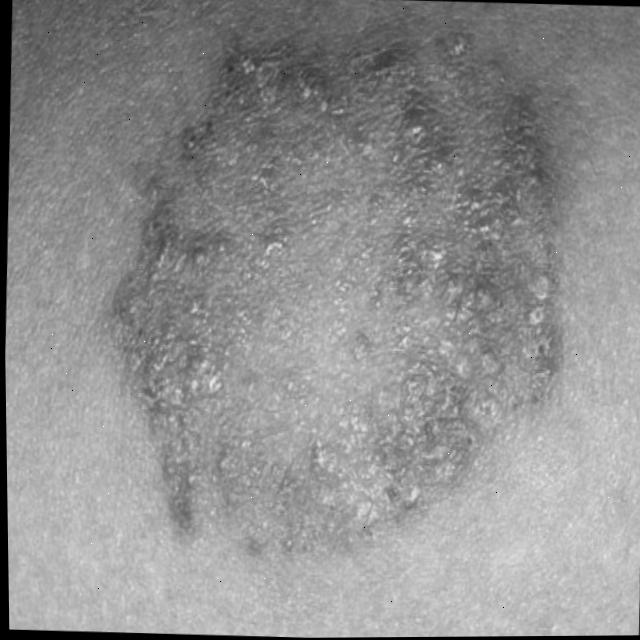Eczema: (114, 29, 534, 538)
